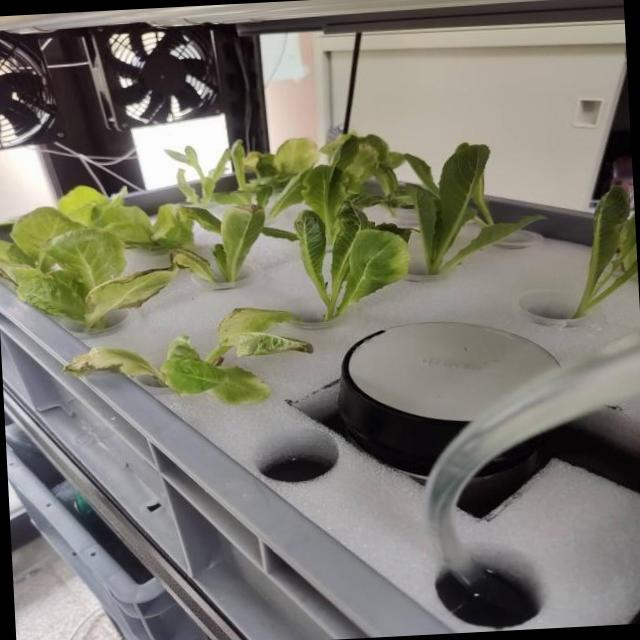Lettuce-Not-Ready-to-Harvest: (65, 307, 313, 404), (0, 228, 177, 330), (293, 201, 410, 321), (410, 144, 515, 274), (302, 133, 403, 244), (573, 185, 638, 318), (182, 205, 264, 281), (0, 207, 85, 277), (96, 204, 194, 250), (245, 138, 319, 193), (164, 145, 230, 204), (347, 163, 412, 214), (58, 186, 128, 227), (268, 169, 309, 218), (170, 249, 219, 281), (472, 175, 495, 226), (231, 140, 248, 191)
